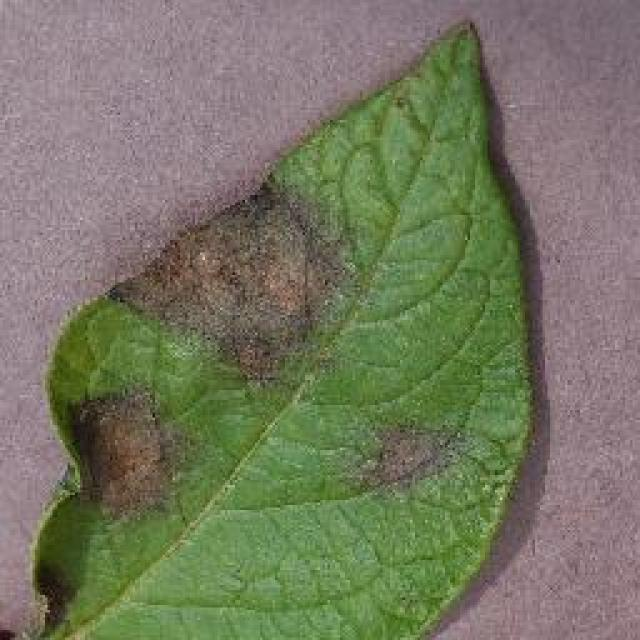late_blight: (20, 15, 540, 637)
